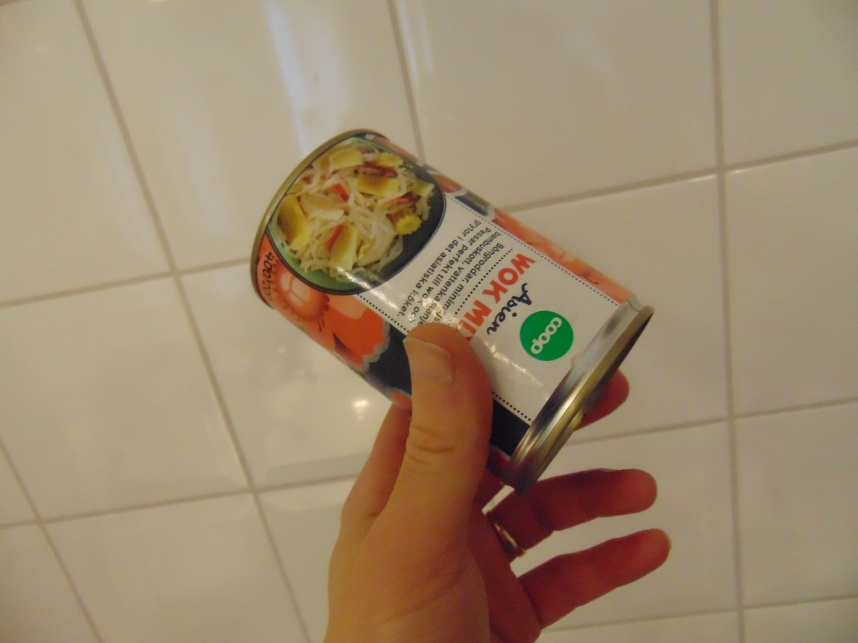metal_can: (247, 128, 656, 501)
